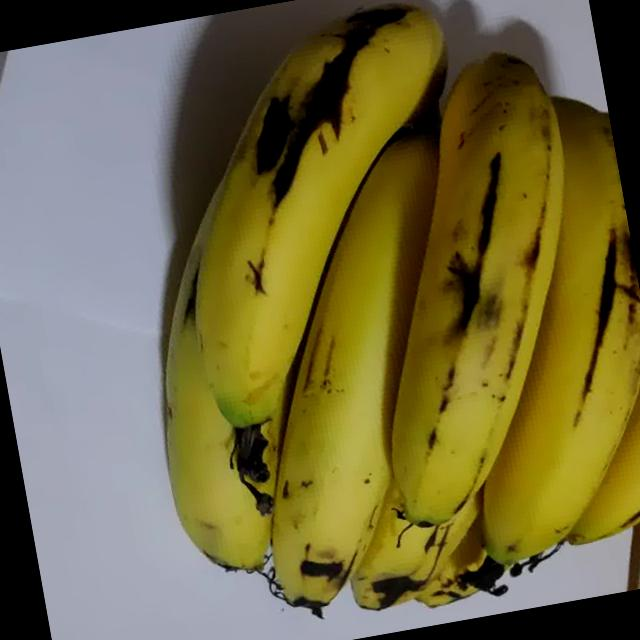banana_pacche: (66, 0, 640, 640)
